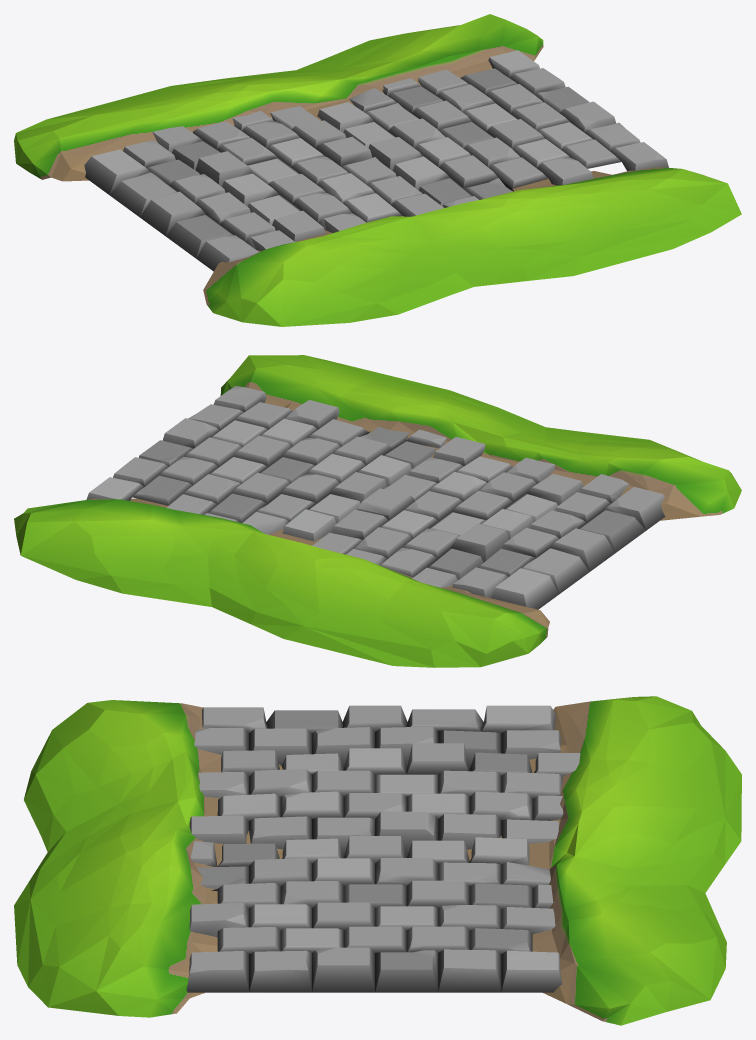
The model's file is CobbledStreet1.fbx.
The picture shows the model from 3 angles, top to bottom: view 1: azimuth 30°, elevation 25°; view 2: azimuth 150°, elevation 25°; view 3: azimuth 270°, elevation 25°; orthographic projection. The views are drawn at different scales.
Visible parts, largest first — view 1: CobbledStreet1; view 2: CobbledStreet1; view 3: CobbledStreet1.
Part boxes in pixels (box(x1,y1,x2,y2)): CobbledStreet1: box(14, 14, 741, 326); CobbledStreet1: box(14, 355, 741, 667); CobbledStreet1: box(14, 696, 741, 1025).
Size of the model in its own units: 10.07 by 0.7026 by 9.67.
